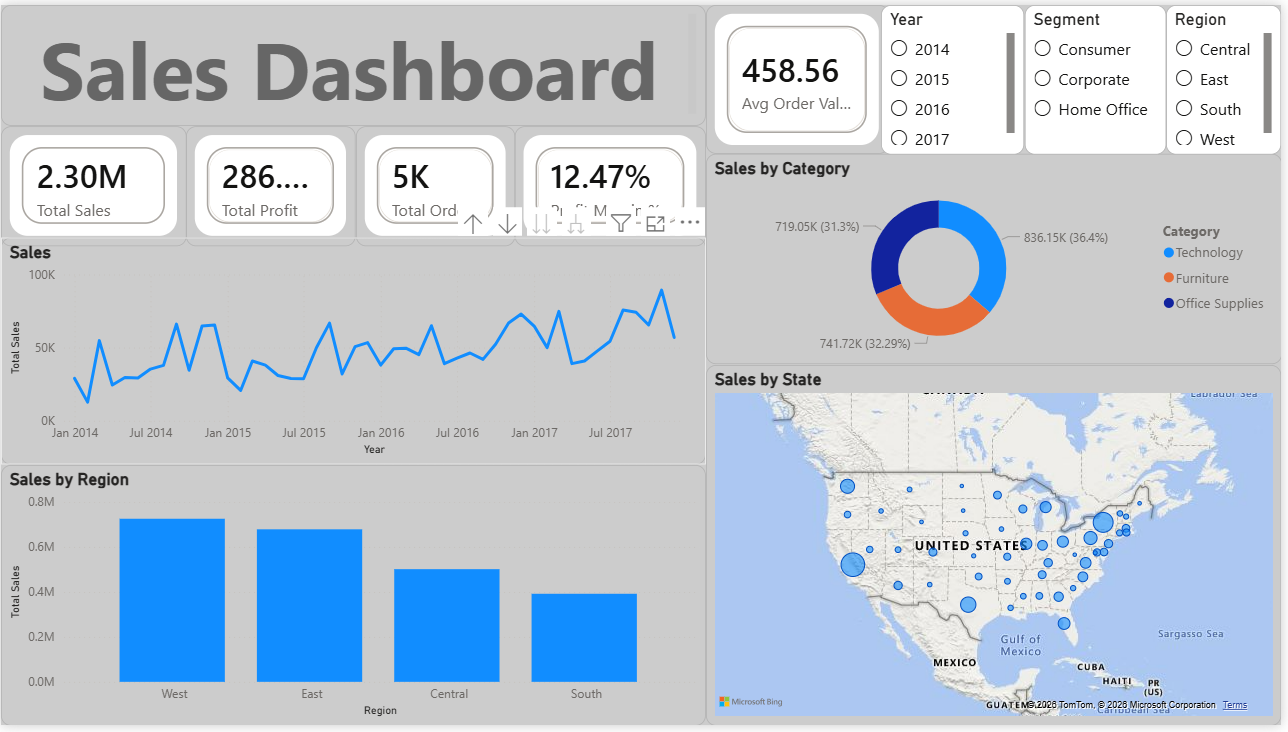

Layout of this report page (visuals, bound fields, positions):
{"tool":"powerbi","page":{"name":"Executive page","canvas":[1280,720],"ordinal":0},"visuals":[{"type":"cardVisual","fields":{"Data":["Sale.Total Sales"]},"box":[0,121,185.4,119.8],"z":0},{"type":"cardVisual","fields":{"Data":["Sale.Total Profit"]},"box":[185.4,121,169.6,119.8],"z":1000},{"type":"cardVisual","fields":{"Data":["Sale.Total Orders"]},"box":[354.6,120.8,159.2,119.7],"z":2000},{"type":"cardVisual","fields":{"Data":["Sale.Profit Margin %"]},"box":[513.3,121,191.1,119.8],"z":3000},{"type":"cardVisual","fields":{"Data":["Sale.Avg Order Value"]},"box":[704.6,0,182.9,149],"z":4000},{"type":"lineChart","title":"Sales","fields":{"Y":["Sale.Total Sales"],"Category":["Sale.Order Date.Variation.Date Hierarchy.Year","Sale.Order Date.Variation.Date Hierarchy.Quarter","Sale.Order Date.Variation.Date Hierarchy.Month"]},"box":[0,232.9,704.4,227.3],"z":5000},{"type":"columnChart","title":"Sales by Region","fields":{"Y":["Sale.Total Sales"],"Category":["Sale.Region"]},"box":[0,459.6,704.6,260.8],"z":6000},{"type":"donutChart","title":"Sales by Category","fields":{"Category":["Sale.Category"],"Y":["Sale.Total Sales"]},"box":[704.6,149,575.9,210],"z":7000},{"type":"listSlicer","fields":{"Values":["Sale.Year"]},"box":[879.7,0,143.6,149.2],"z":8000},{"type":"listSlicer","fields":{"Values":["Sale.Region"]},"box":[1164.6,0,115.3,149.2],"z":9000},{"type":"listSlicer","fields":{"Values":["Sale.Segment"]},"box":[1023.2,0,141.3,149.2],"z":10000},{"type":"map","title":"Sales by State","fields":{"Size":["Sale.Total Sales"],"Category":["Sale.State"]},"box":[704.4,359.5,575.5,360.7],"z":11000},{"type":"textbox","box":[0,0,704.4,121],"z":12000}]}

Visuals, with their boxes in screenshot pixels (x1, y1, x2, y2), scaled from the page's 1280x720 canvas onto the 1288x732 screenshot:
cardVisual - Sale.Total Sales: 0/123/187/245
cardVisual - Sale.Total Profit: 187/123/357/245
cardVisual - Sale.Total Orders: 357/123/517/245
cardVisual - Sale.Profit Margin %: 517/123/709/245
cardVisual - Sale.Avg Order Value: 709/0/893/151
"Sales" lineChart: 0/237/709/468
"Sales by Region" columnChart: 0/467/709/731
"Sales by Category" donutChart: 709/151/1287/365
listSlicer - Sale.Year: 885/0/1030/152
listSlicer - Sale.Region: 1172/0/1287/152
listSlicer - Sale.Segment: 1030/0/1172/152
"Sales by State" map: 709/365/1287/731
textbox: 0/0/709/123
